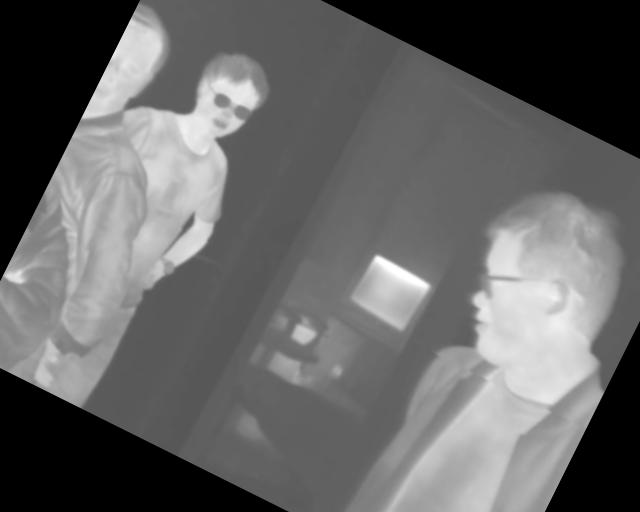face: (180, 41, 278, 149)
